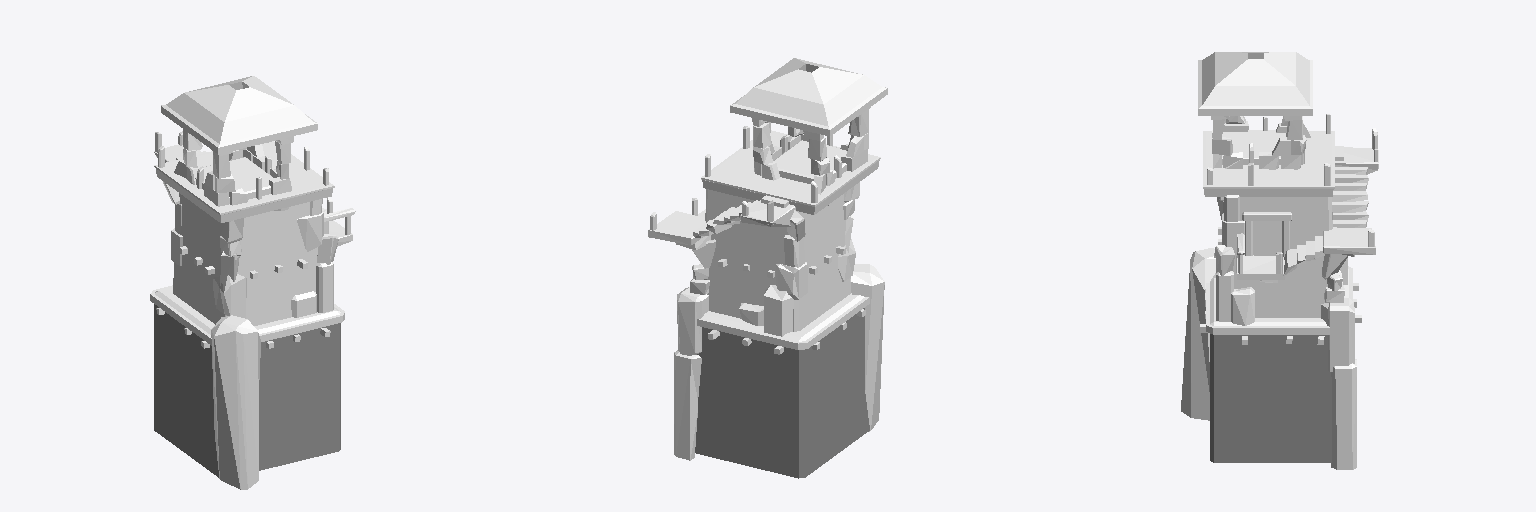
File: ex_common_lighthouse.obj
3 views of the same model, side by side, from view 1: azimuth 30°, elevation 25°; view 2: azimuth 150°, elevation 25°; view 3: azimuth 270°, elevation 25° (orthographic).
Parts seen in each view (by area): view 1: nifid_6-matrix_Tri_Ex_common_lighthouse_1-lib, nifid_1-matrix_Tri_Ex_common_lighthouse_0-lib, nifid_14-matrix_Tri_Ex_common_lighthouse_3-lib, nifid_10-matrix_Tri_Ex_common_lighthouse_2-lib, nifid_18-matrix_Tri_Ex_common_lighthouse_4-lib; view 2: nifid_6-matrix_Tri_Ex_common_lighthouse_1-lib, nifid_1-matrix_Tri_Ex_common_lighthouse_0-lib, nifid_14-matrix_Tri_Ex_common_lighthouse_3-lib, nifid_18-matrix_Tri_Ex_common_lighthouse_4-lib, nifid_10-matrix_Tri_Ex_common_lighthouse_2-lib; view 3: nifid_6-matrix_Tri_Ex_common_lighthouse_1-lib, nifid_1-matrix_Tri_Ex_common_lighthouse_0-lib, nifid_18-matrix_Tri_Ex_common_lighthouse_4-lib, nifid_14-matrix_Tri_Ex_common_lighthouse_3-lib, nifid_10-matrix_Tri_Ex_common_lighthouse_2-lib.
Boxes of the visible parts, x1,y1,x2,y2 form: nifid_6-matrix_Tri_Ex_common_lighthouse_1-lib: [150, 129, 355, 489]; nifid_1-matrix_Tri_Ex_common_lighthouse_0-lib: [154, 304, 340, 477]; nifid_14-matrix_Tri_Ex_common_lighthouse_3-lib: [173, 193, 317, 325]; nifid_10-matrix_Tri_Ex_common_lighthouse_2-lib: [166, 76, 312, 203]; nifid_18-matrix_Tri_Ex_common_lighthouse_4-lib: [154, 105, 334, 348]; nifid_6-matrix_Tri_Ex_common_lighthouse_1-lib: [648, 107, 884, 460]; nifid_1-matrix_Tri_Ex_common_lighthouse_0-lib: [695, 308, 869, 478]; nifid_14-matrix_Tri_Ex_common_lighthouse_3-lib: [705, 189, 850, 331]; nifid_18-matrix_Tri_Ex_common_lighthouse_4-lib: [701, 87, 887, 354]; nifid_10-matrix_Tri_Ex_common_lighthouse_2-lib: [736, 58, 881, 183]; nifid_6-matrix_Tri_Ex_common_lighthouse_1-lib: [1181, 116, 1378, 469]; nifid_1-matrix_Tri_Ex_common_lighthouse_0-lib: [1210, 334, 1331, 462]; nifid_18-matrix_Tri_Ex_common_lighthouse_4-lib: [1198, 60, 1361, 344]; nifid_14-matrix_Tri_Ex_common_lighthouse_3-lib: [1233, 197, 1332, 317]; nifid_10-matrix_Tri_Ex_common_lighthouse_2-lib: [1202, 52, 1309, 164].
Bounding box in the file's own units: 15.54 × 34.78 × 16.82.